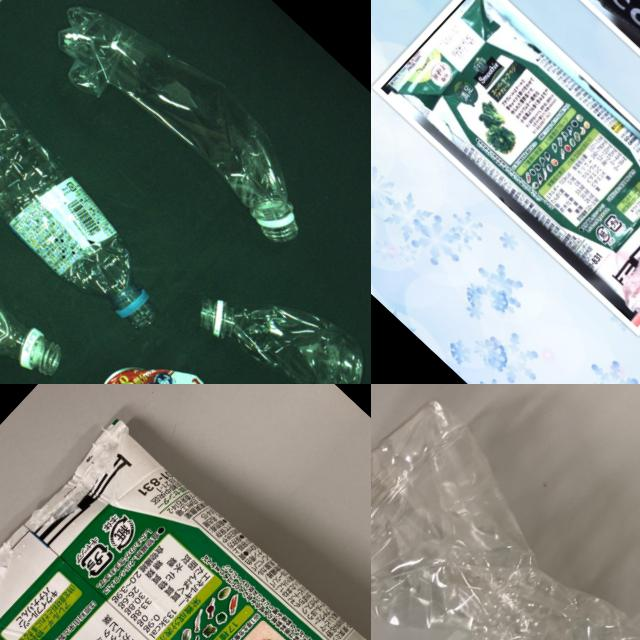Aluminium Foil: (0, 390, 371, 640), (383, 0, 640, 323)
Can: (60, 319, 285, 384)
Transparent Plastic Bottle: (41, 0, 335, 261), (371, 389, 640, 640), (0, 64, 200, 348), (186, 240, 371, 384), (0, 153, 76, 384)
